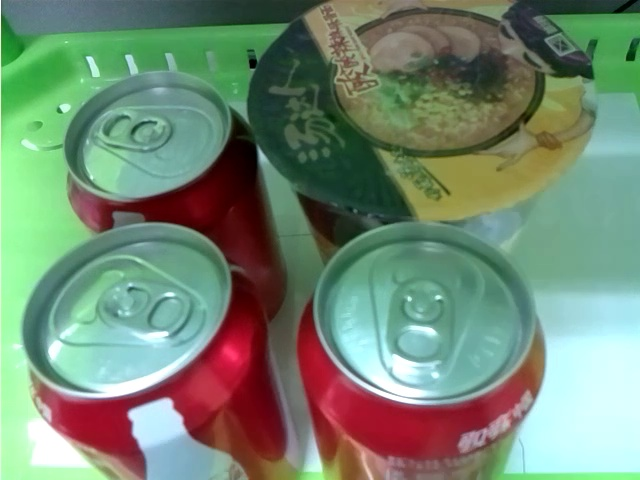cocacola: (20, 222, 300, 480), (287, 218, 550, 480), (54, 69, 285, 317)
noodles: (248, 1, 598, 251)
